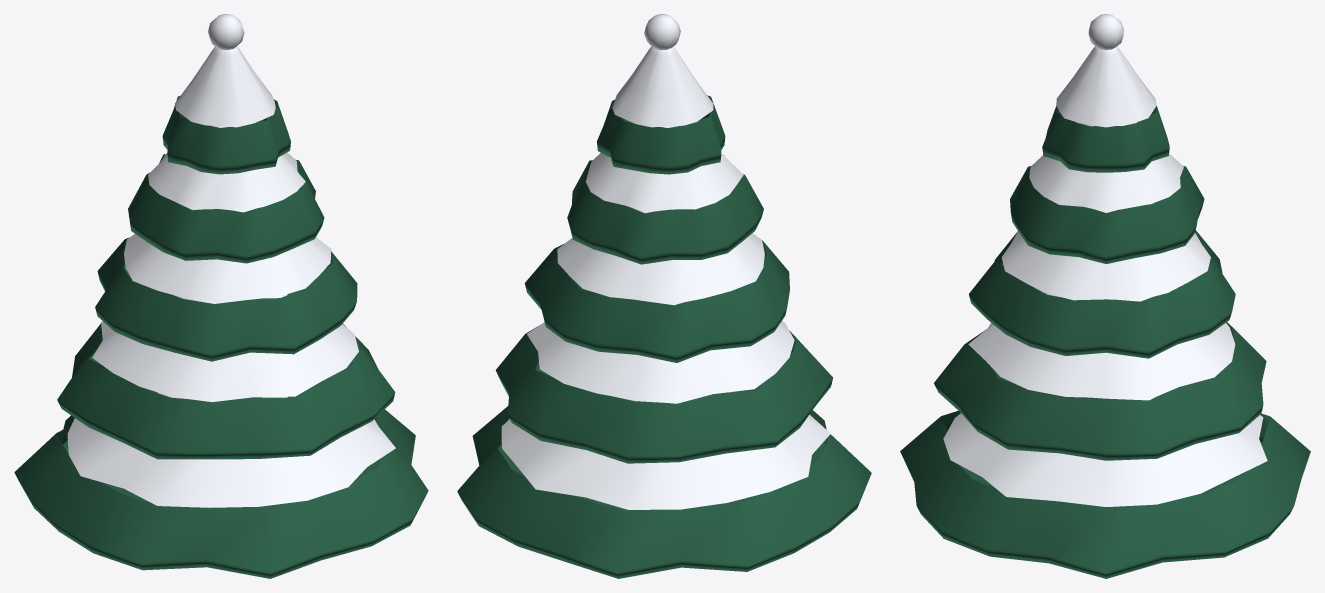
File: BobsledPine.obj
The picture shows the model from 3 angles, left to right: view 1: azimuth 30°, elevation 25°; view 2: azimuth 150°, elevation 25°; view 3: azimuth 270°, elevation 25°; orthographic projection.
Parts seen in each view (by area): view 1: Needles, Snow; view 2: Needles, Snow; view 3: Needles, Snow.
Boxes of the visible parts, x1,y1,x2,y2 form: Needles: [14, 95, 428, 578]; Snow: [67, 14, 395, 507]; Needles: [457, 95, 871, 578]; Snow: [501, 14, 830, 509]; Needles: [900, 106, 1310, 578]; Snow: [943, 14, 1267, 506].
Size of the model in its own units: 10.13 by 14.05 by 10.03.
